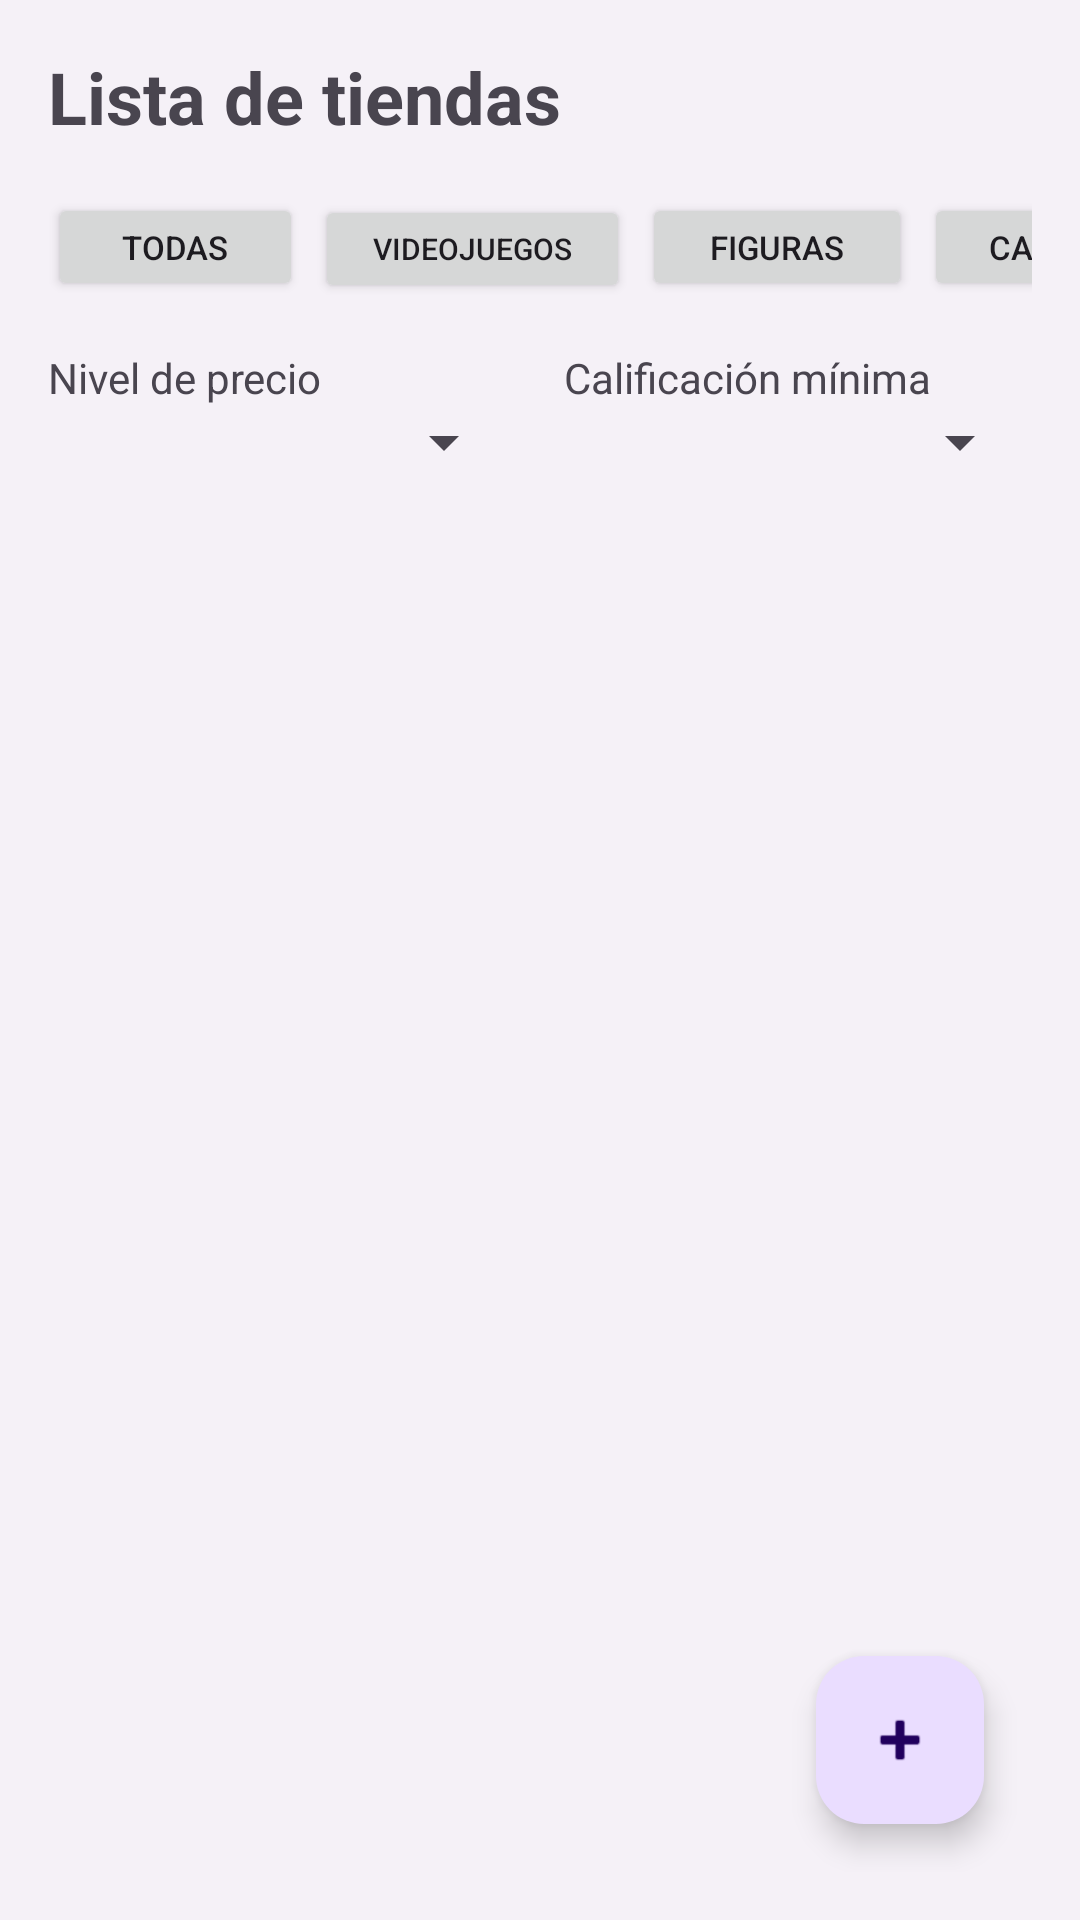

Icons on this 1080x1920 Android screen, each with its box as {"left": x1, "top": y1, "right": x2, "bottom": y2}:
Agregar tienda: {"left": 816, "top": 1656, "right": 984, "bottom": 1824}
